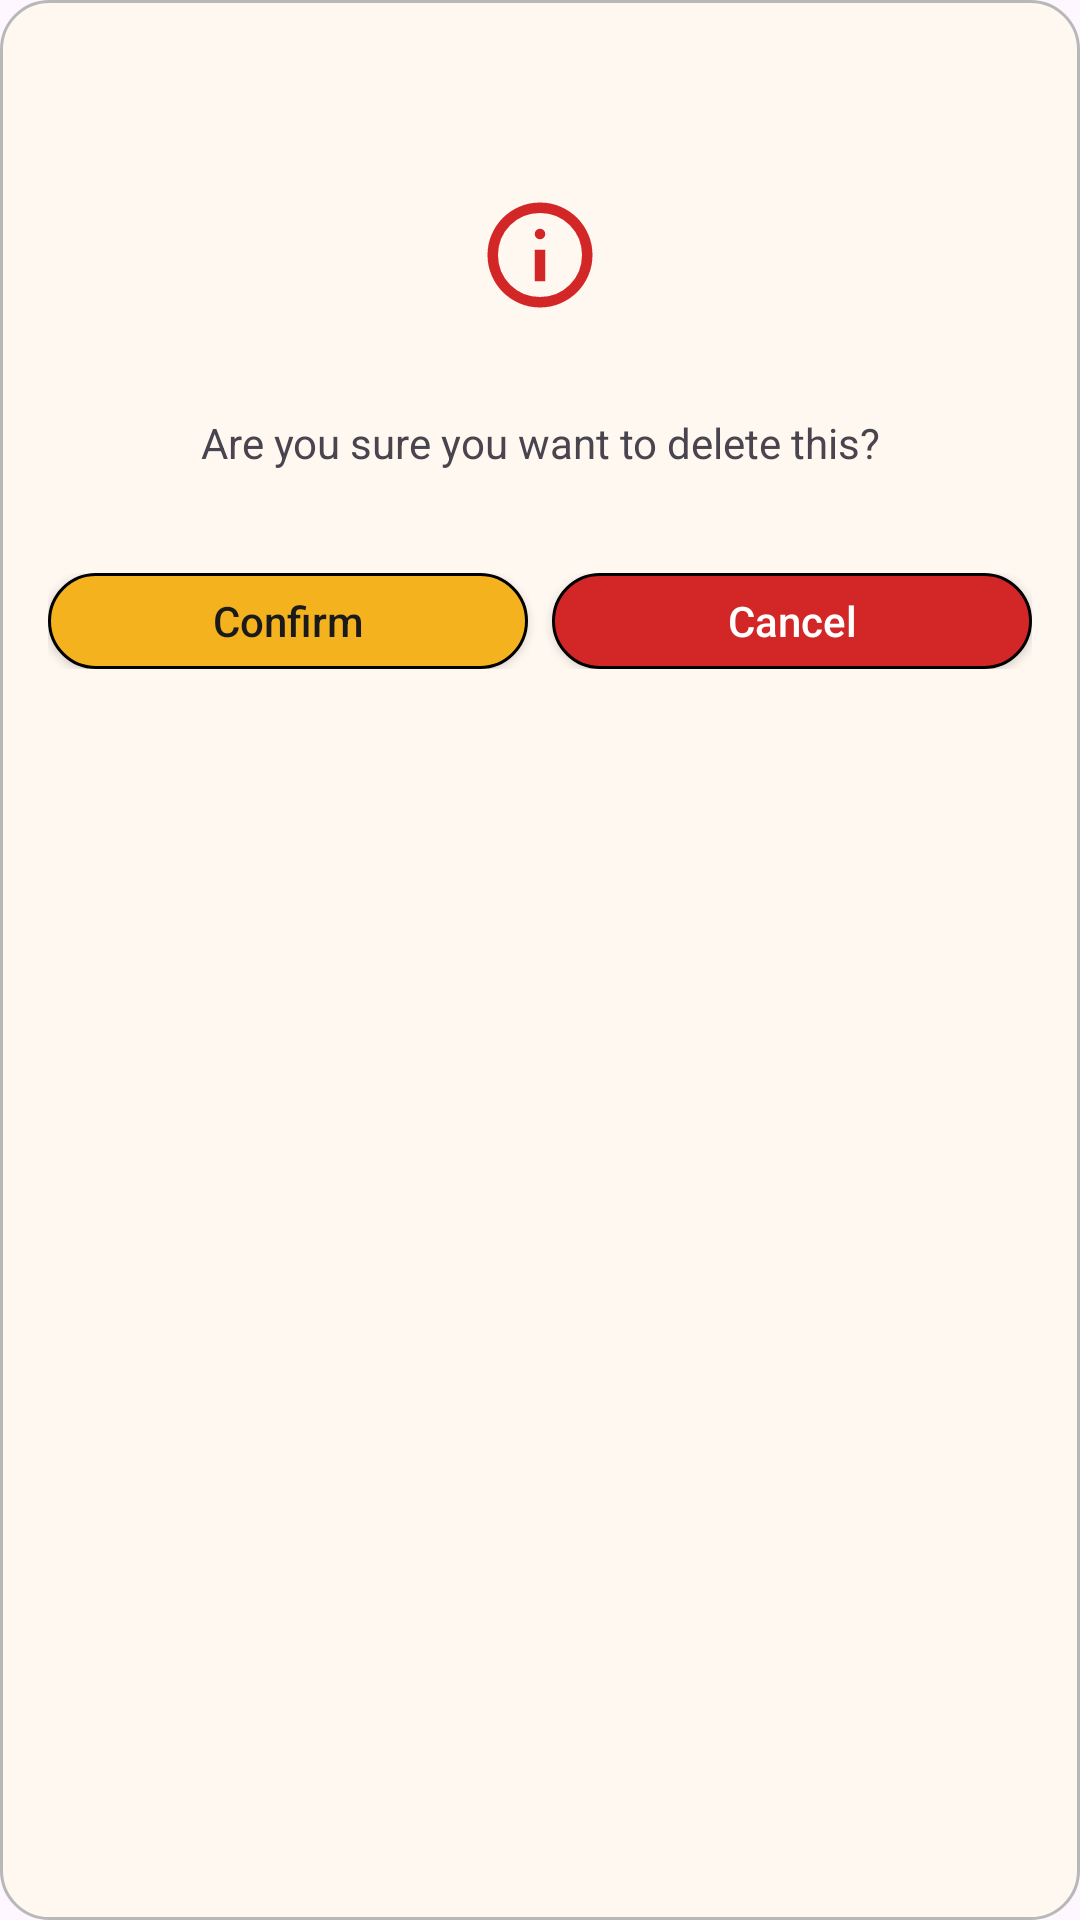

Icon bounding boxes for this 1080 x 1920 phone screenshot, format region(x1, y1, x2, y2):
info: region(487, 202, 593, 308)
